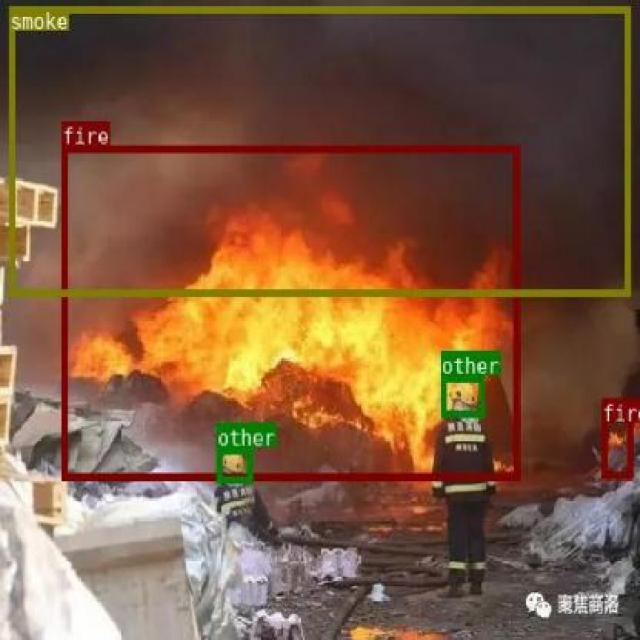Fire: (60, 143, 518, 480), (600, 397, 632, 477)
Smoke: (8, 7, 630, 296)
